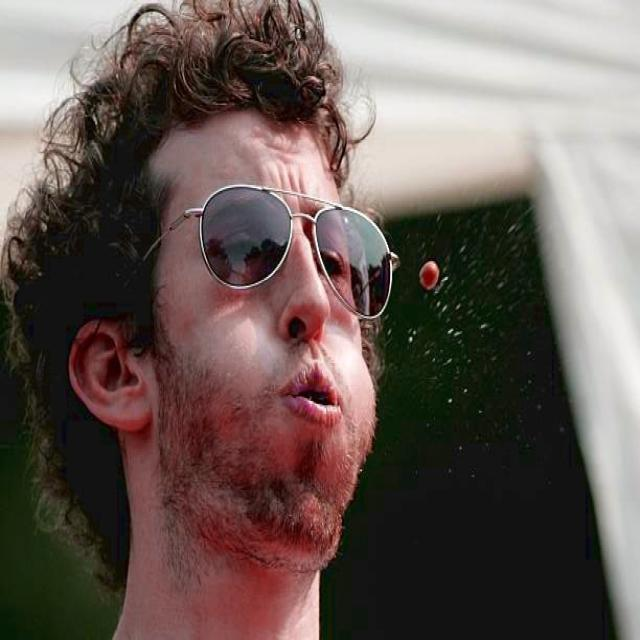Spitting: (73, 2, 454, 596)
